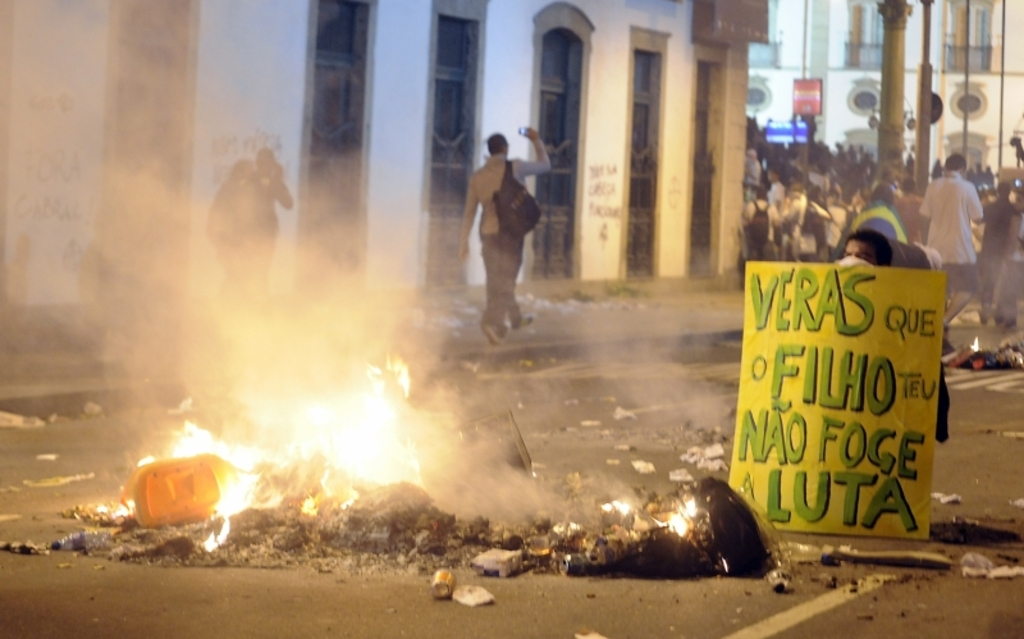Person: (739, 114, 1024, 330), (225, 148, 297, 320), (844, 230, 892, 269)
